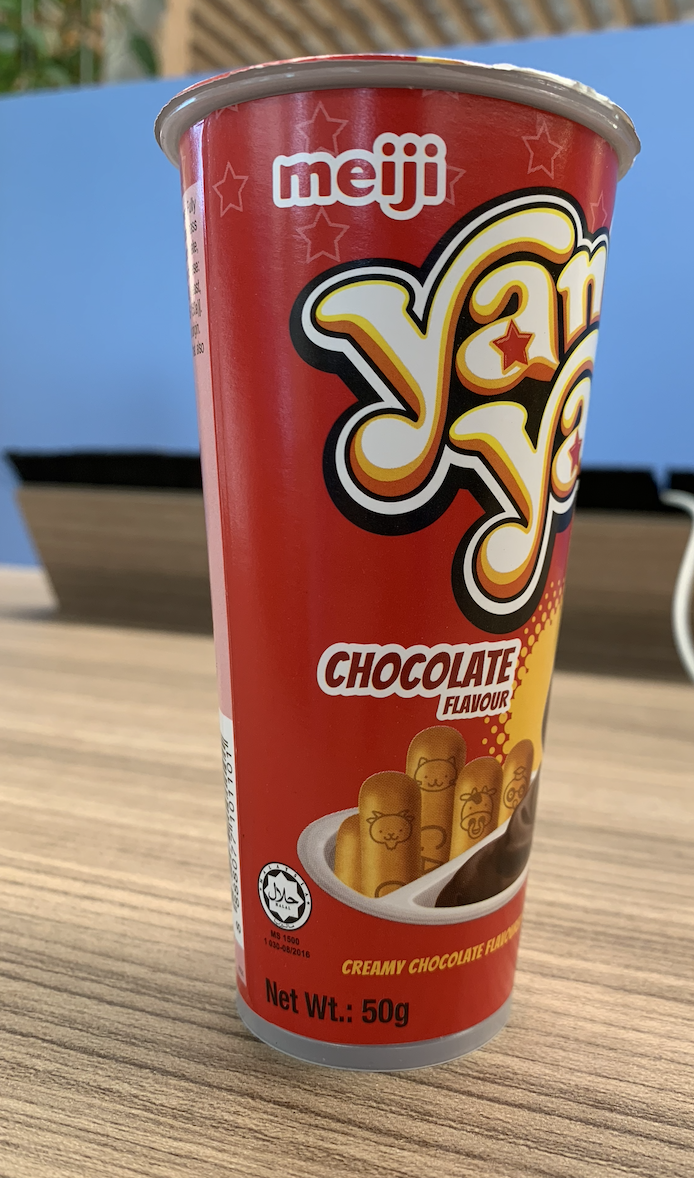cookies_1g-99g: (253, 113, 494, 1037)
